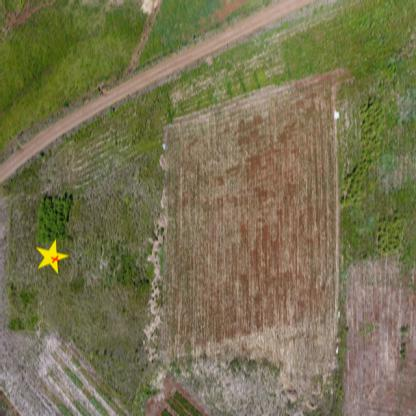X: (48, 254, 63, 266)
star: (35, 235, 70, 276)
